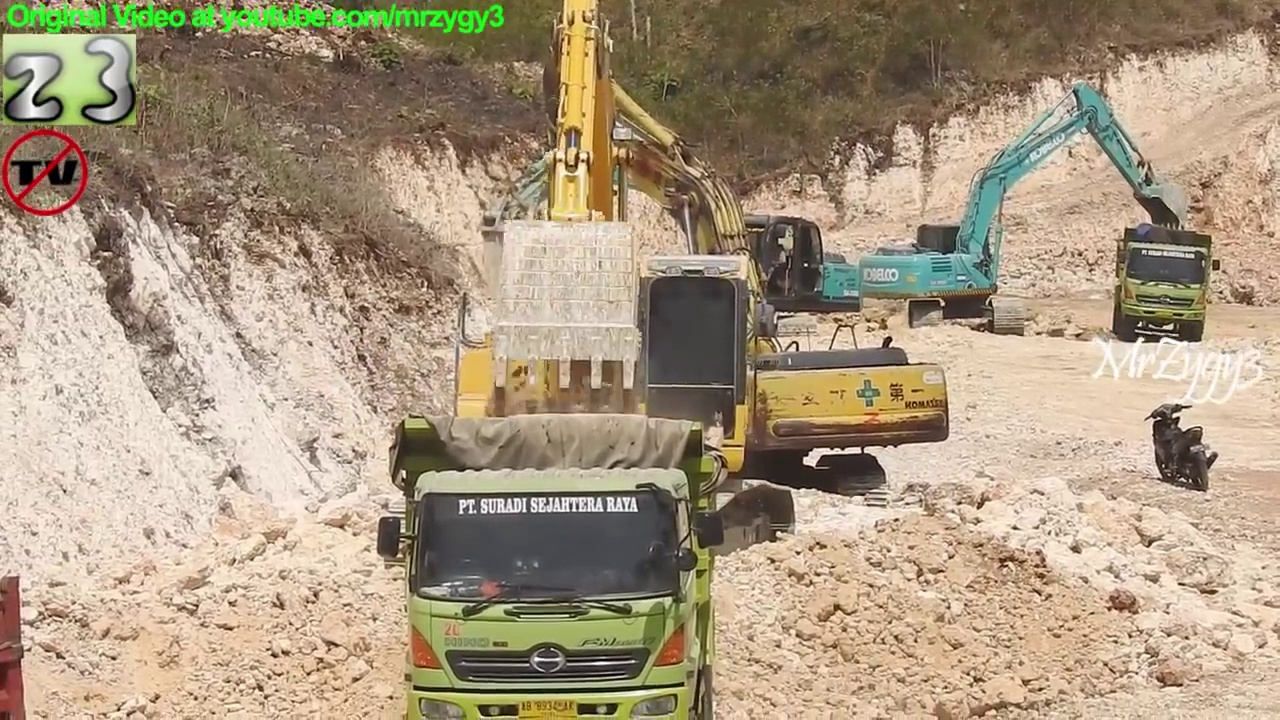excavator: (370, 1, 806, 588), (522, 10, 957, 521), (469, 117, 868, 350), (851, 79, 1198, 341)
truck: (372, 409, 735, 720), (1110, 220, 1227, 345), (1, 569, 31, 720)
